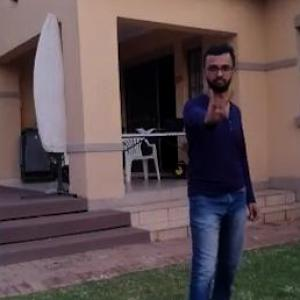takeoff-hand: (200, 80, 238, 126)
